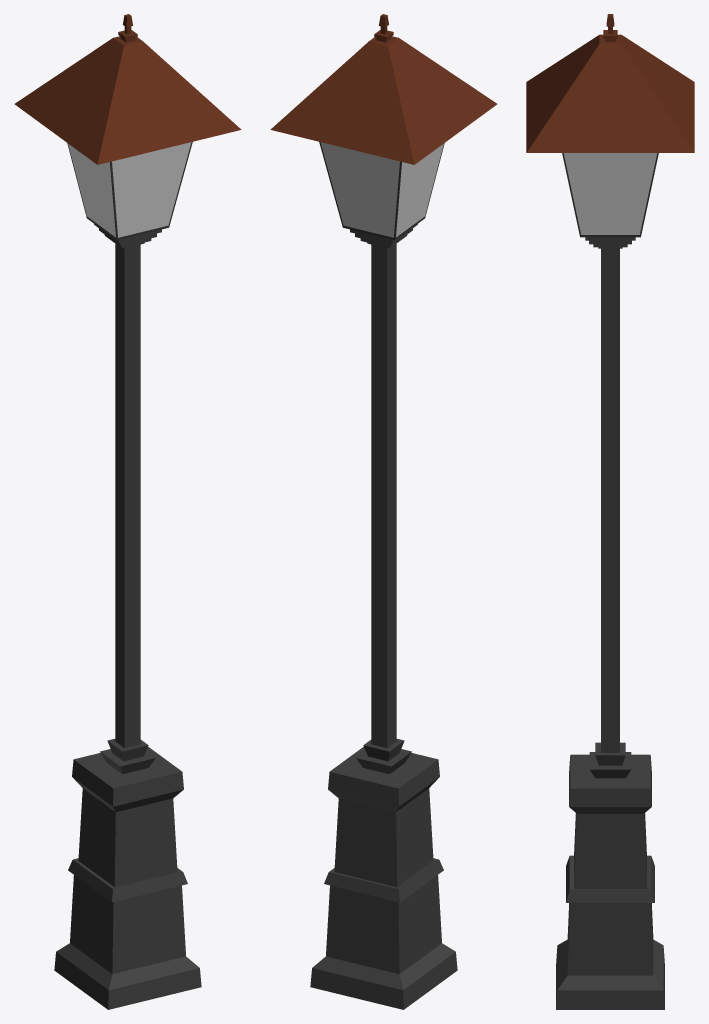
The model's file is Park_LampStreet.fbx.
3 views of the same model, side by side, from view 1: azimuth 30°, elevation 25°; view 2: azimuth 150°, elevation 25°; view 3: azimuth 270°, elevation 25° (orthographic).
Parts seen in each view (by area): view 1: Cube, Cube.002, Cube.001; view 2: Cube, Cube.002, Cube.001; view 3: Cube, Cube.002, Cube.001.
Boxes of the visible parts, x1,y1,x2,y2 form: Cube: (54, 142, 201, 1009); Cube.002: (14, 14, 241, 164); Cube.001: (68, 142, 191, 237); Cube: (310, 142, 457, 1009); Cube.002: (270, 14, 497, 164); Cube.001: (320, 142, 443, 237); Cube: (556, 153, 664, 1009); Cube.002: (526, 14, 694, 152); Cube.001: (563, 153, 657, 234).
Size of what is drawn, in the model's own units: 242 by 1542 by 242.
